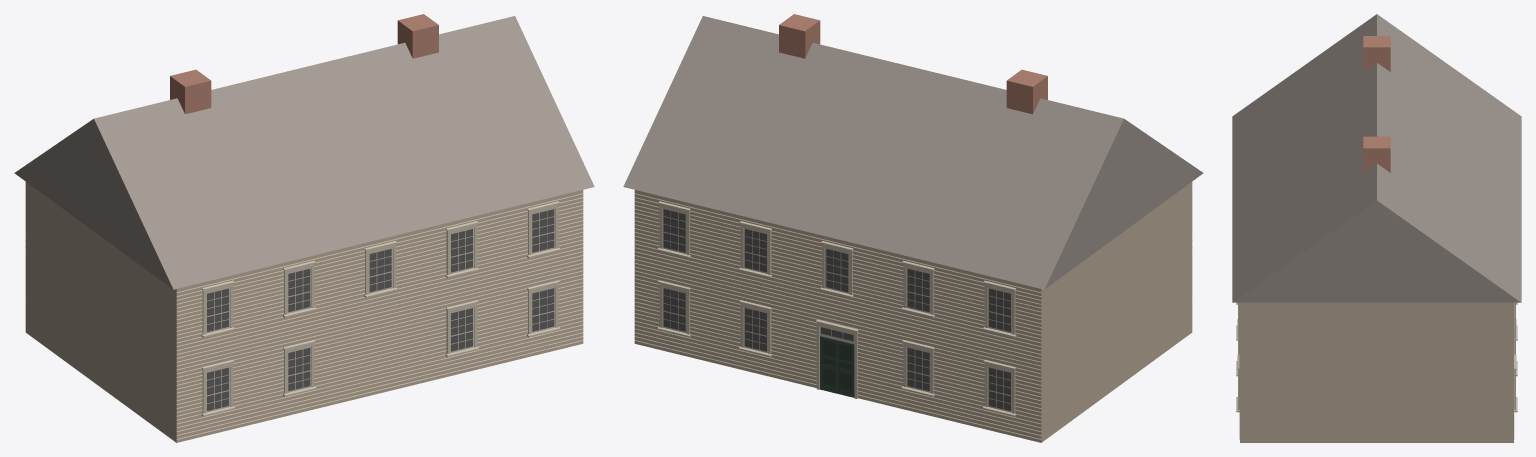
The model's file is exchange_coffee_house__frame_1834.glb.
3 renders of one model, left to right at view 1: azimuth 30°, elevation 25°; view 2: azimuth 150°, elevation 25°; view 3: azimuth 270°, elevation 25°, orthographic. The views are drawn at different scales.
Visible parts, largest first — view 1: exchange_coffee_house__frame_1834; view 2: exchange_coffee_house__frame_1834; view 3: exchange_coffee_house__frame_1834.
Part boxes in pixels (x1=…): exchange_coffee_house__frame_1834: x1=14, y1=14, x2=594, y2=442; exchange_coffee_house__frame_1834: x1=623, y1=14, x2=1203, y2=442; exchange_coffee_house__frame_1834: x1=1232, y1=14, x2=1521, y2=442.
Size of the model in its own units: 14.5 by 9.46 by 9.5.
